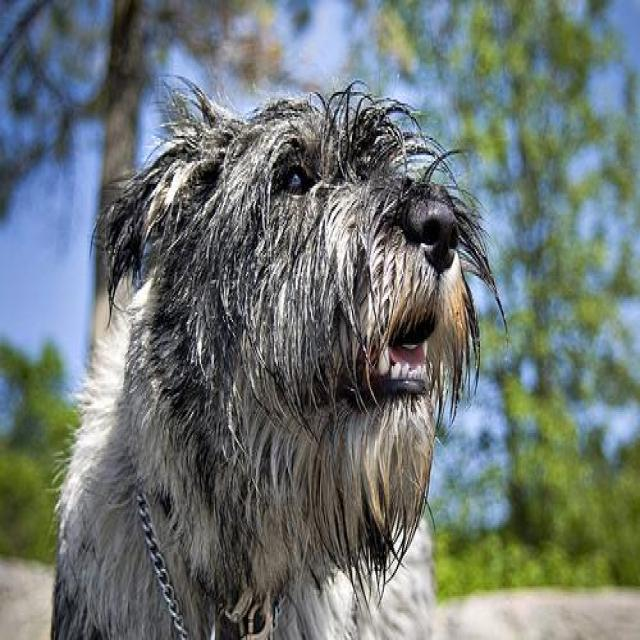standard_schnauzer: (31, 73, 502, 638)
